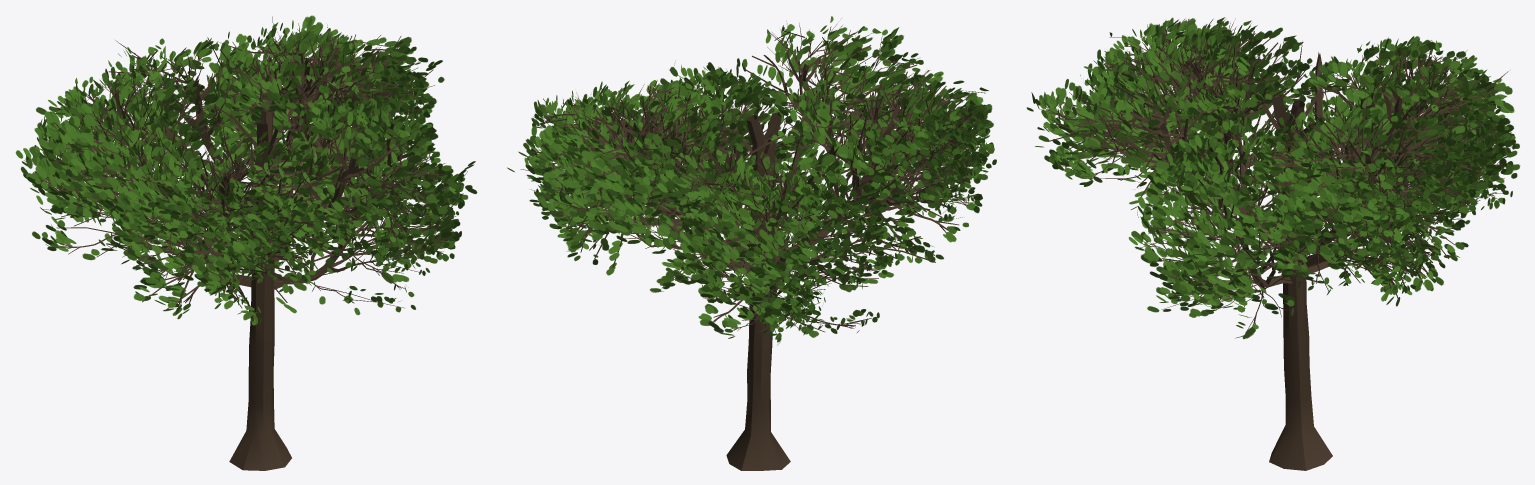
3 renders of one model, left to right at view 1: azimuth 30°, elevation 25°; view 2: azimuth 150°, elevation 25°; view 3: azimuth 270°, elevation 25°, orthographic. The views are drawn at different scales.
Parts seen in each view (by area): view 1: oak 01.001_trunk_Mat.001_0.028; view 2: oak 01.001_trunk_Mat.001_0.028; view 3: oak 01.001_trunk_Mat.001_0.028.
Part boxes in pixels (x1=…): oak 01.001_trunk_Mat.001_0.028: x1=15, y1=15, x2=477, y2=470; oak 01.001_trunk_Mat.001_0.028: x1=507, y1=16, x2=996, y2=470; oak 01.001_trunk_Mat.001_0.028: x1=1026, y1=17, x2=1520, y2=470.
Size of the model in its own units: 5.71 by 5.08 by 6.
Materials: 2 (1 with a texture image).
